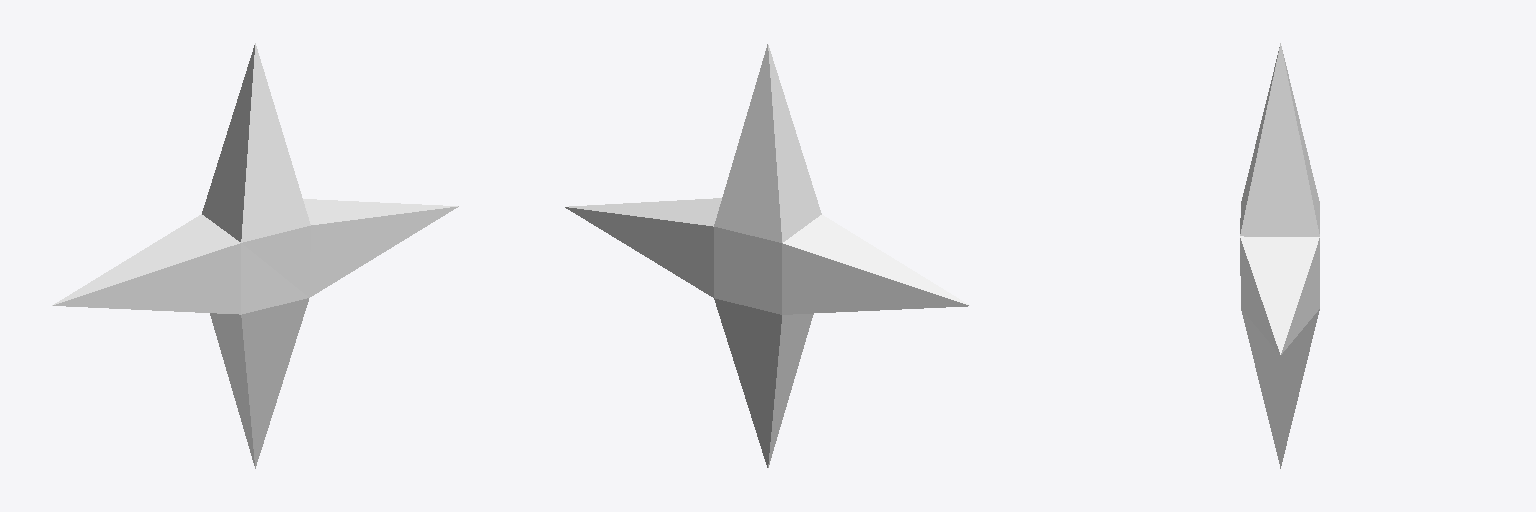
3 views of the same model, side by side, from view 1: azimuth 30°, elevation 25°; view 2: azimuth 150°, elevation 25°; view 3: azimuth 270°, elevation 25° (orthographic).
Visible parts, largest first — view 1: Cube; view 2: Cube; view 3: Cube.
Boxes of the visible parts, <box> form: Cube: <box>52,43,458,468</box>; Cube: <box>565,44,969,467</box>; Cube: <box>1240,43,1319,468</box>.
Bounding box in the file's own units: 4.01 × 4.01 × 0.6805.
1 materials, 1 textured.